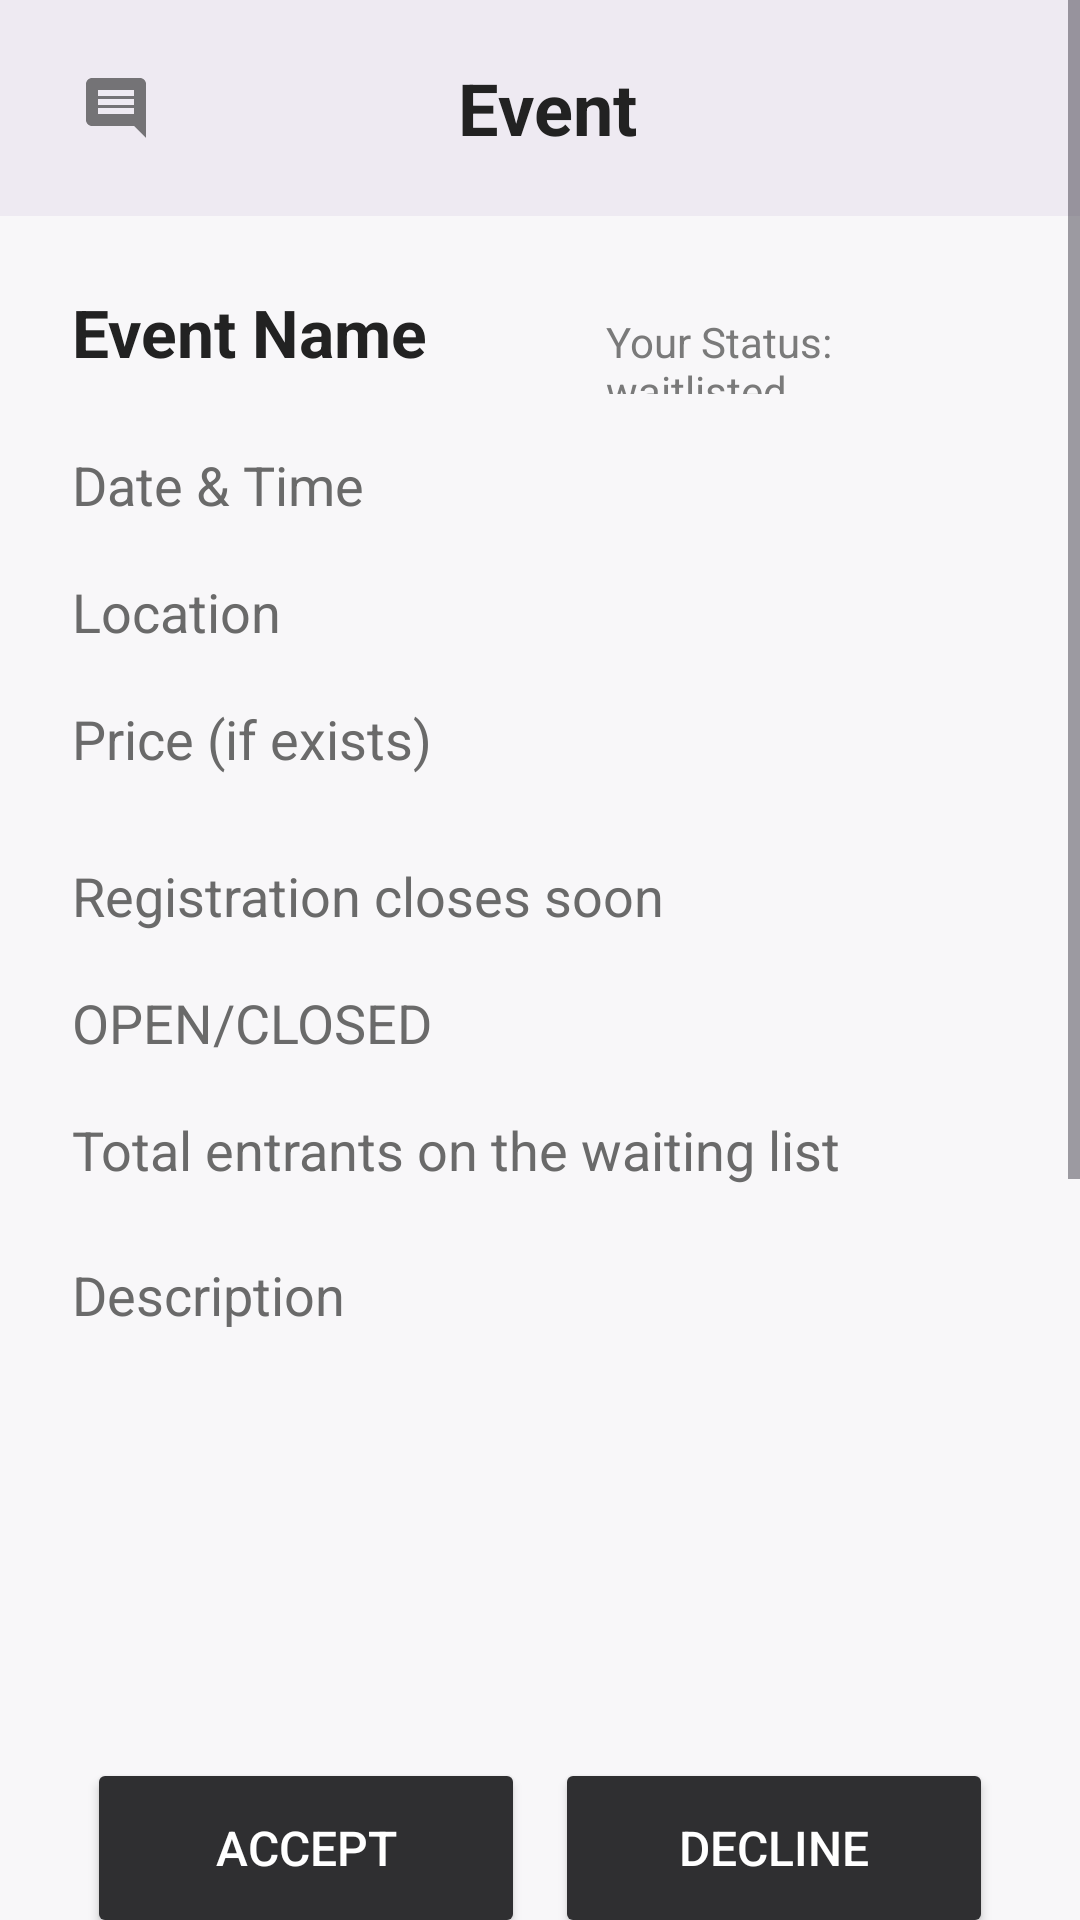

Point at icon controls on the screen. Image size 1080 × 1920, points as (x,y).
comment: (116,108)
